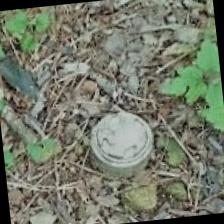M14: (90, 108, 152, 179)
